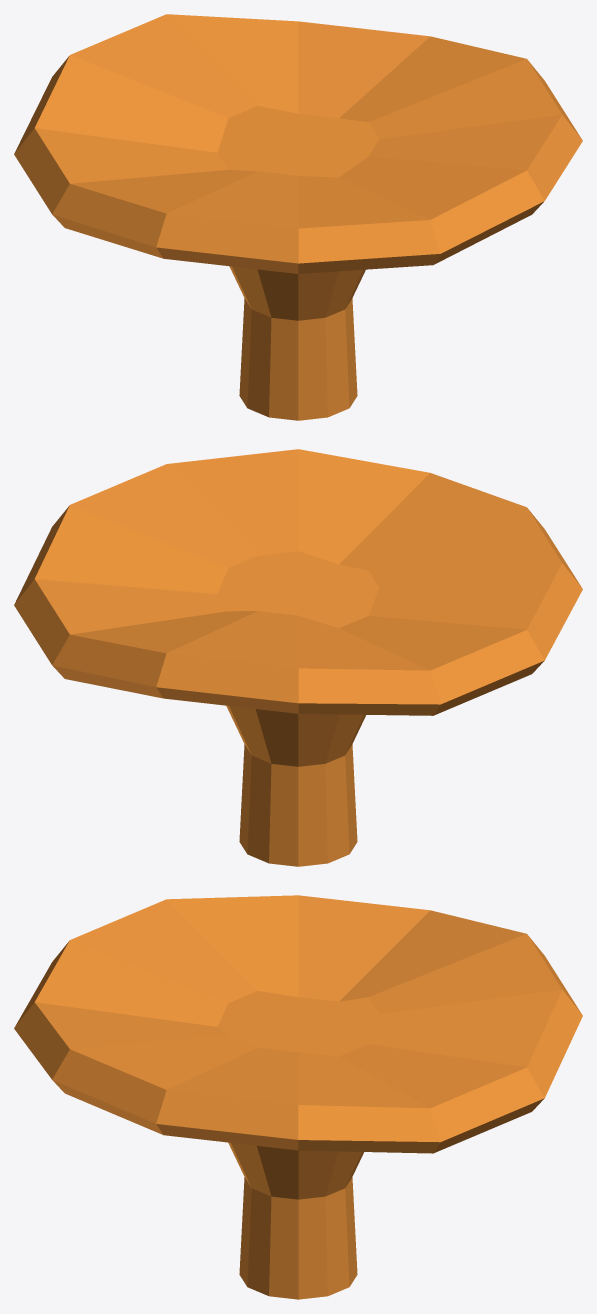
Rendered from Cantharellaceae_little.fbx.
3 renders of one model, top to bottom at view 1: azimuth 30°, elevation 25°; view 2: azimuth 150°, elevation 25°; view 3: azimuth 270°, elevation 25°, orthographic.
Visible parts, largest first — view 1: Cylinder; view 2: Cylinder; view 3: Cylinder.
Part boxes in pixels (x1,y1,x2,y2): Cylinder: (14, 14, 582, 420); Cylinder: (14, 449, 582, 866); Cylinder: (14, 895, 582, 1299).
Size of the model in its own units: 70.91 by 39.2 by 70.91.
